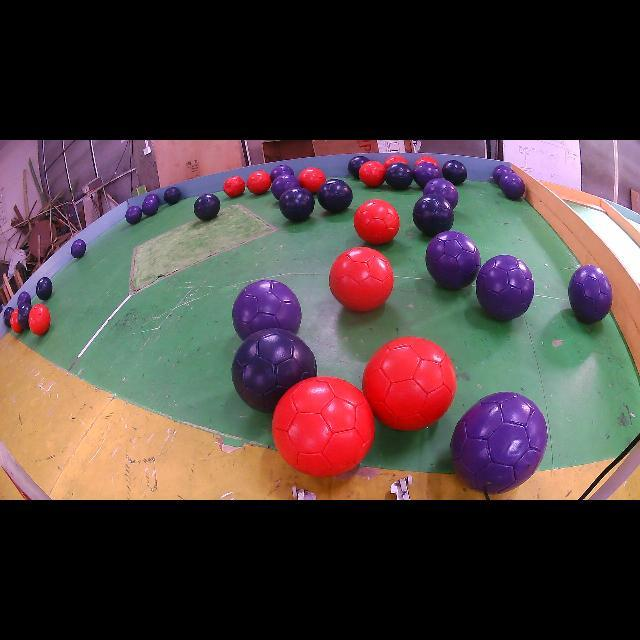B: (231, 328, 318, 414), (412, 195, 454, 236), (279, 188, 315, 221), (318, 179, 352, 212), (385, 162, 412, 190), (194, 194, 220, 220), (442, 160, 468, 185), (348, 156, 369, 179), (18, 302, 32, 330), (36, 278, 52, 300), (164, 186, 181, 205), (4, 306, 14, 328)
P: (451, 392, 548, 494), (232, 280, 301, 340), (476, 255, 534, 320), (425, 230, 481, 289), (569, 265, 612, 324), (422, 179, 459, 209), (412, 162, 442, 188), (271, 174, 300, 200), (499, 172, 525, 200), (270, 165, 294, 181), (492, 165, 512, 184), (125, 205, 142, 224), (71, 239, 86, 259), (143, 198, 158, 215), (18, 291, 31, 307), (145, 194, 159, 201)
R: (272, 376, 375, 476), (362, 338, 456, 430), (329, 248, 394, 311), (354, 199, 400, 244), (298, 168, 326, 194), (29, 304, 50, 335), (359, 161, 385, 186), (246, 171, 271, 194), (224, 176, 245, 198), (384, 155, 408, 168), (10, 309, 22, 332), (415, 156, 439, 166)
